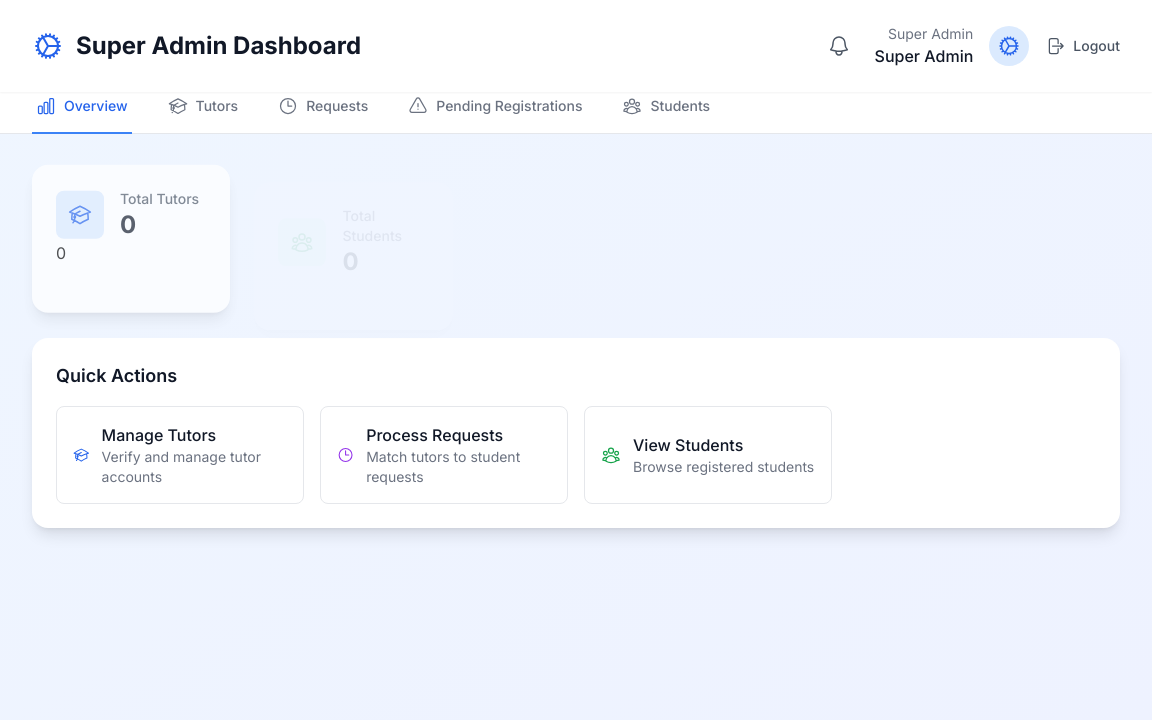
Test case: Super Admin Notifications Dropdown › closes the dropdown on Escape key
The image size is (1152, 720).
Click the button named "0 unread notifications" at {"x": 839, "y": 46}, box [819,26,859,66]
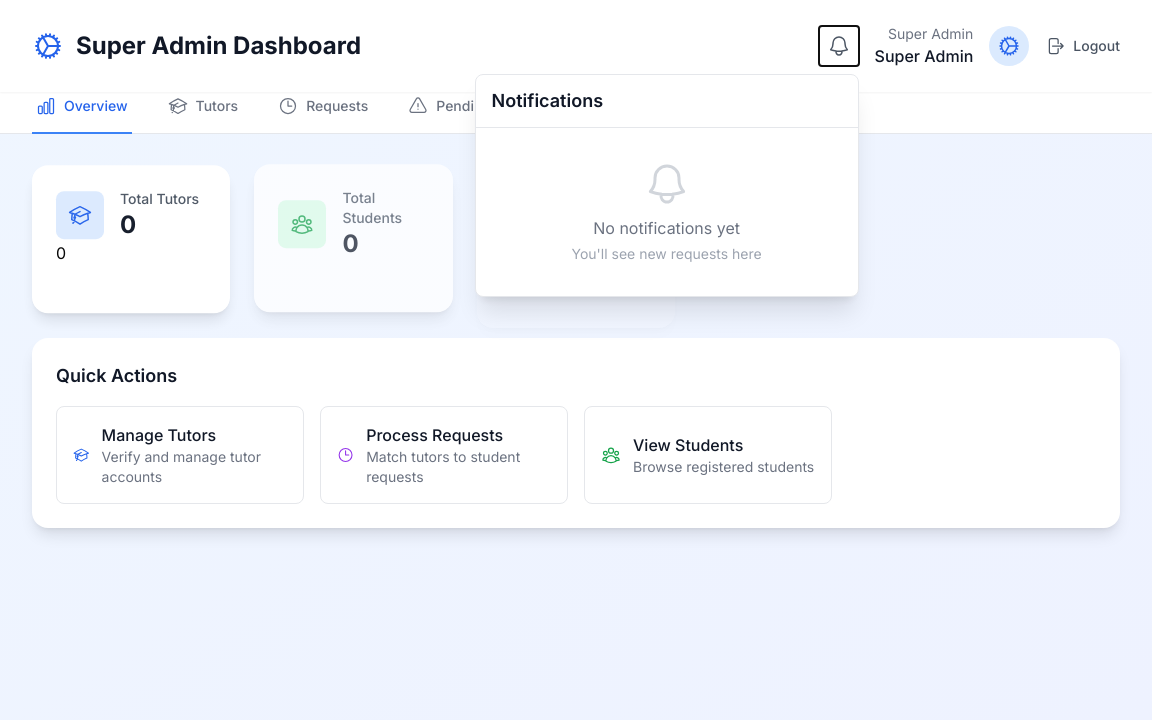
Now the heading "Notifications" is shown, box [492,87,603,115]
Press Escape
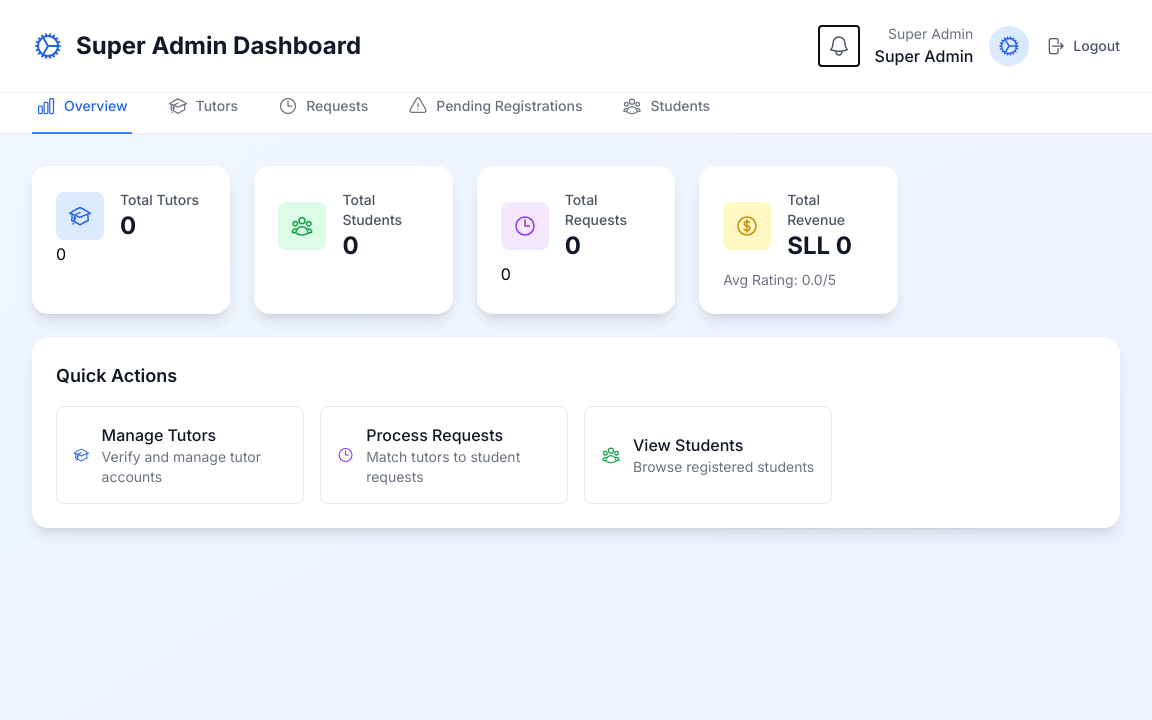
Now the heading "Notifications" is gone
